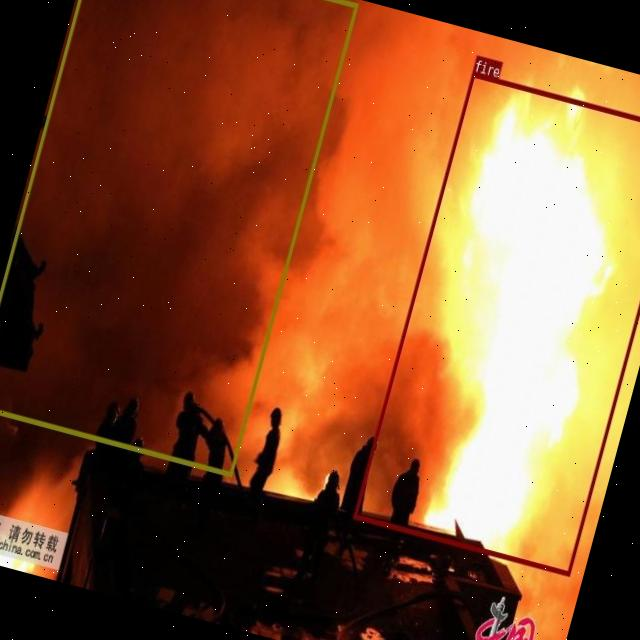fire: (352, 71, 640, 575)
smoke: (0, 0, 357, 476)
